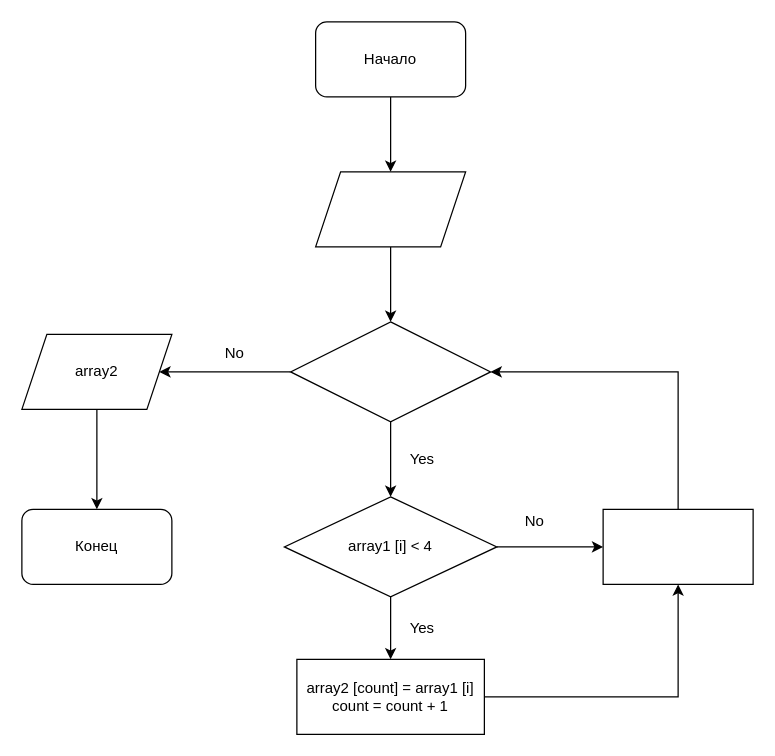
This 775x756 diagram has some shape labels left out. The centre of each missing label's shape, as x and y in pixels:
i < 5: pixel 390 371
i = i + 1: pixel 677 546
string[5] array1 string[5] array2 count = 0 i = 0: pixel 390 209
